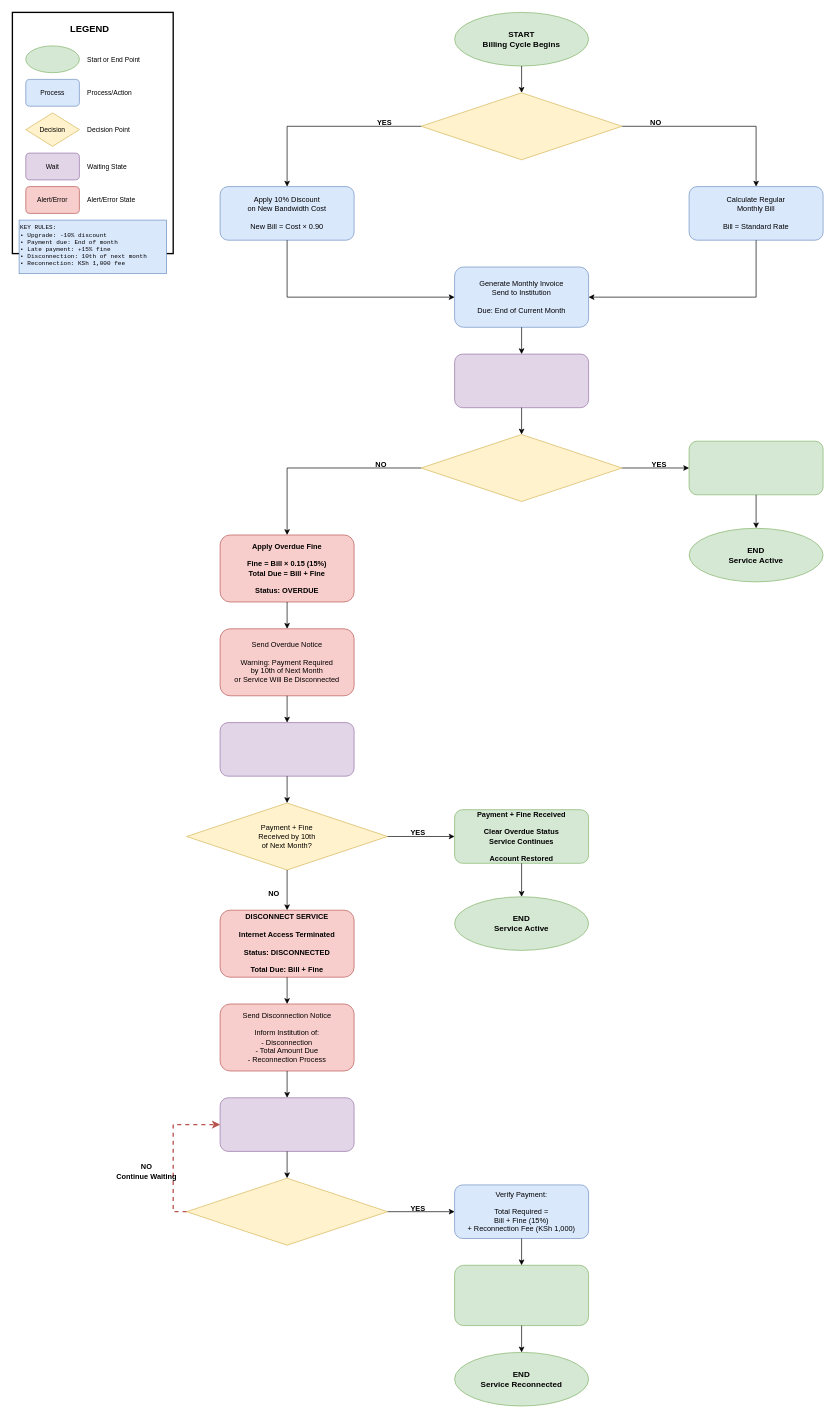
This 835x1418 diagram has some shape labels left out. The shapes that lost their labels are listed below. From the top down, each one's centre as x and y in pixels, then its label:
At point (52, 59): "Start/End".
At point (521, 126): "Institution Requesting Upgrade to Higher Bandwidth?".
At point (521, 380): "Wait for Payment Deadline: Last Day of Current Month".
At point (521, 467): "Payment Received by End of Current Month?".
At point (755, 468): "Payment Received Service Continues Account in Good Standing".
At point (286, 749): "Grace Period Wait Until 10th Day of Subsequent Month".
At point (286, 1124): "Status: Disconnected Awaiting Payment for Reconnection".
At point (287, 1211): "Institution Pays Bill + Fine + Reconnection Fee?".
At point (521, 1295): "RECONNECT SERVICE Process Reconnection Restore Internet Access Status: ACTIVE".
